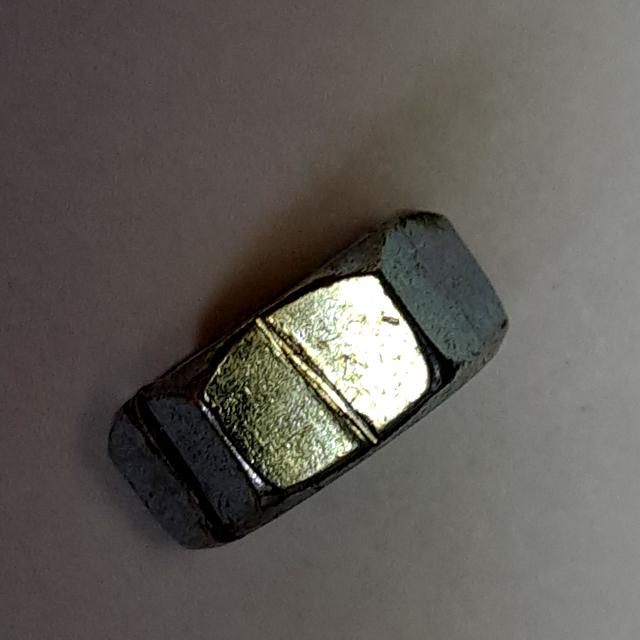Side_Scratches: (98, 203, 522, 562)
